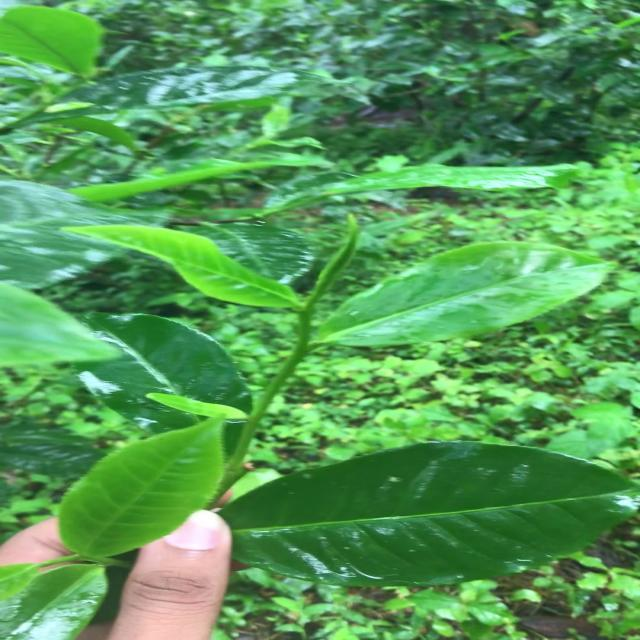Stem: (298, 310, 311, 329)
